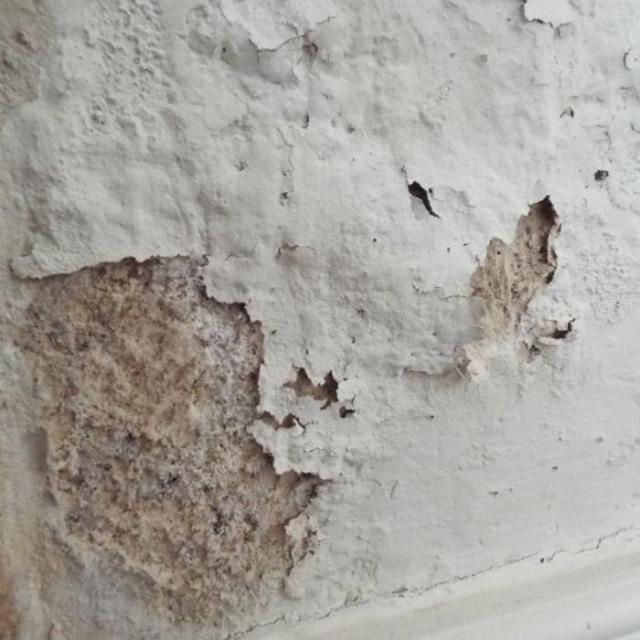damp_damage: (12, 38, 631, 640)
